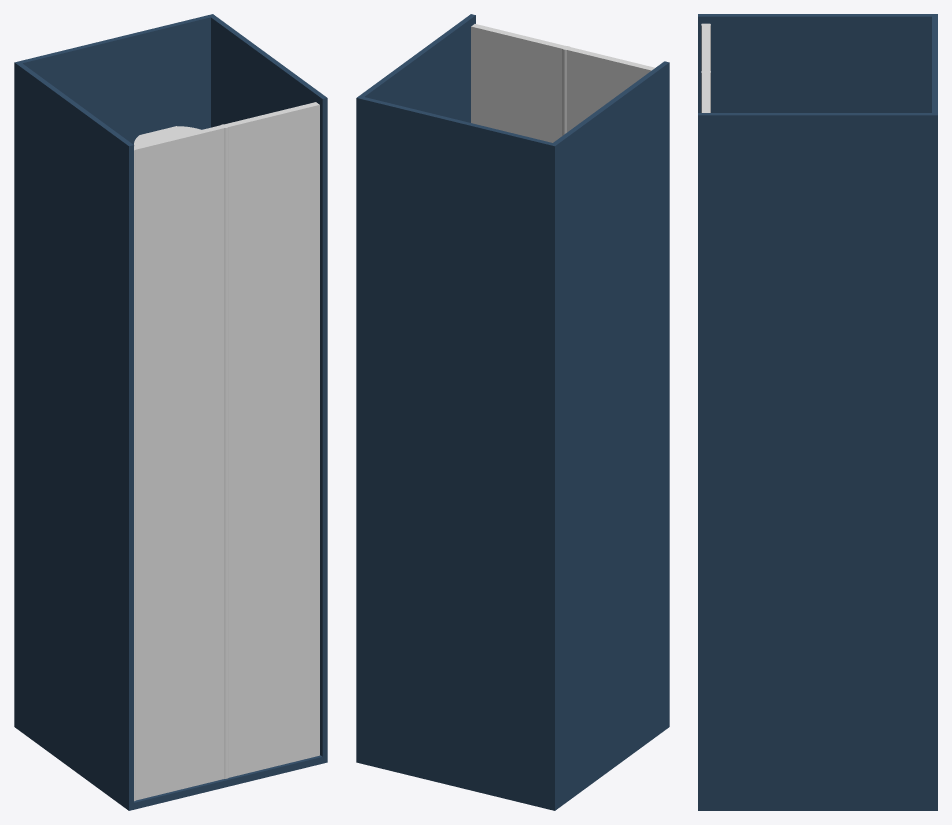
File: cubicle_gonnarig_close.fbx
The picture shows the model from 3 angles, left to right: view 1: azimuth 30°, elevation 25°; view 2: azimuth 150°, elevation 25°; view 3: azimuth 270°, elevation 25°; orthographic projection. The views are drawn at different scales.
Visible parts, largest first — view 1: Cube, Cylinder.007, Cylinder.006, Cylinder.002; view 2: Cube, Cylinder.007, Cylinder.006; view 3: Cube, Cylinder.006.
Boxes of the visible parts, bbox=[...] form: Cube: bbox=[14, 14, 327, 810]; Cylinder.007: bbox=[221, 102, 319, 778]; Cylinder.006: bbox=[134, 124, 226, 801]; Cylinder.002: bbox=[134, 126, 201, 146]; Cube: bbox=[356, 14, 669, 810]; Cylinder.007: bbox=[471, 24, 569, 142]; Cylinder.006: bbox=[564, 46, 655, 132]; Cube: bbox=[698, 14, 937, 810]; Cylinder.006: bbox=[701, 23, 710, 72].
Bounding box in the file's own units: 600 × 1920 × 600.
